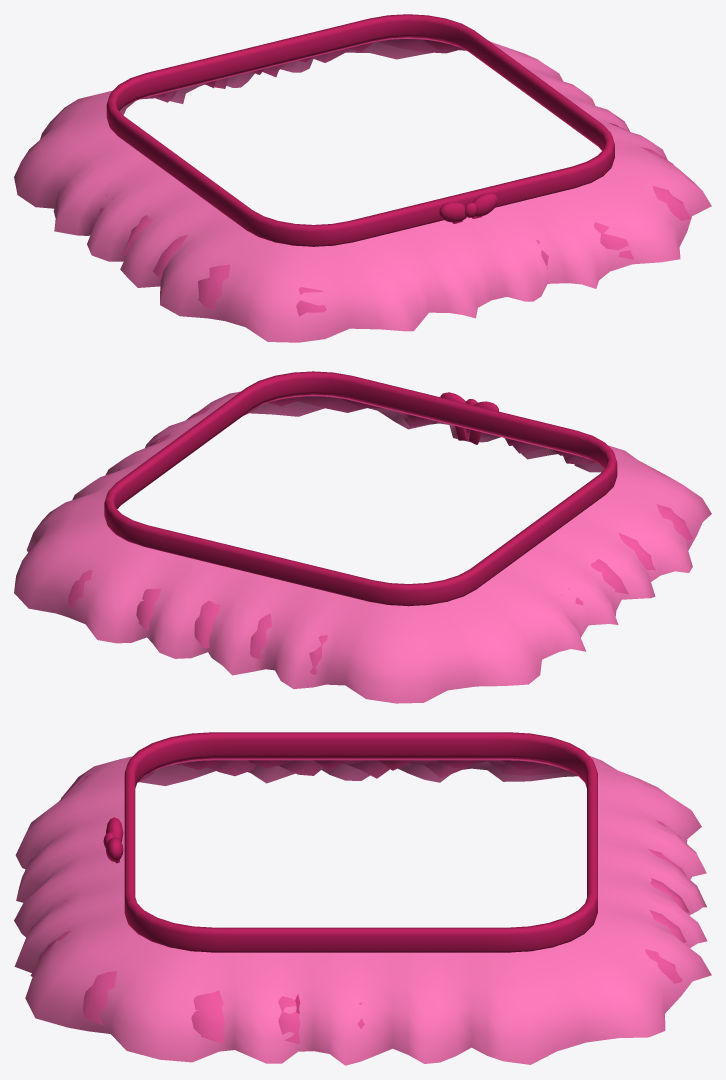
The model's file is tutu.glb.
The picture shows the model from 3 angles, top to bottom: view 1: azimuth 30°, elevation 25°; view 2: azimuth 150°, elevation 25°; view 3: azimuth 270°, elevation 25°; orthographic projection. The views are drawn at different scales.
Visible parts, largest first — view 1: layer0, waistband, layer1, layer2; view 2: layer0, waistband, layer1, layer2; view 3: layer0, waistband, layer1, layer2.
Part boxes in pixels (box(x1,y1,x2,y2)): layer0: box(14, 41, 711, 342); waistband: box(106, 14, 614, 246); layer1: box(99, 39, 691, 316); layer2: box(106, 37, 618, 195); layer0: box(14, 391, 711, 703); waistband: box(104, 371, 617, 606); layer1: box(68, 396, 692, 674); layer2: box(157, 394, 591, 595); layer0: box(14, 755, 711, 1065); waistband: box(124, 732, 597, 952); layer1: box(30, 760, 689, 1043); layer2: box(152, 758, 568, 1013).
Bounding box in the file's own units: 1.96 × 0.2845 × 1.95.
